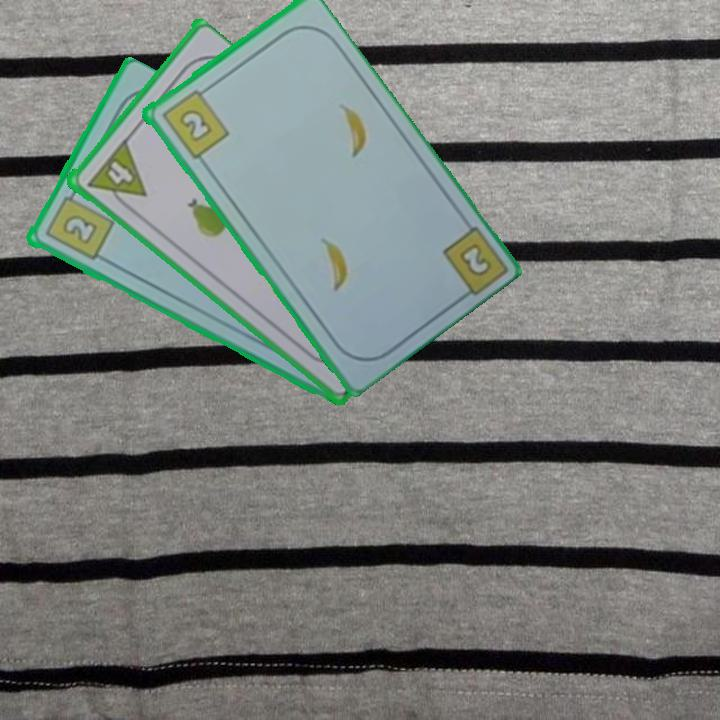2b: (41, 185, 116, 263), (157, 83, 231, 162), (454, 239, 494, 280)
4p: (99, 139, 149, 196)
